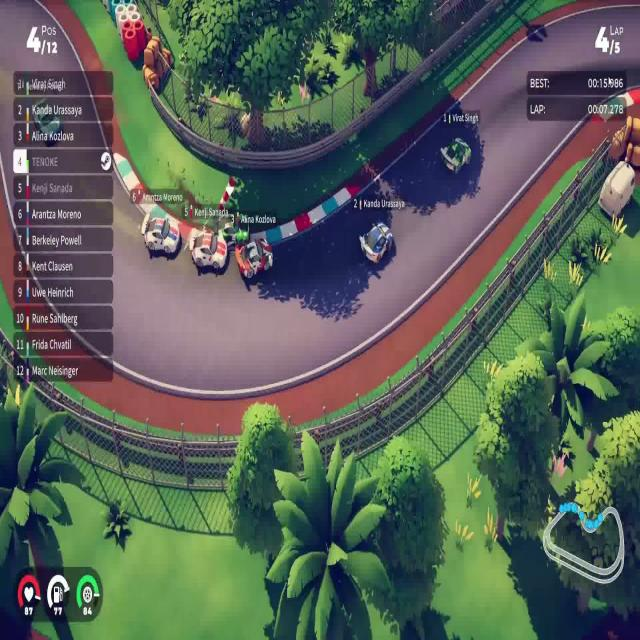car: (141, 204, 181, 258), (234, 234, 273, 280), (189, 224, 224, 274), (358, 220, 394, 265), (215, 205, 250, 248), (439, 135, 471, 176)
